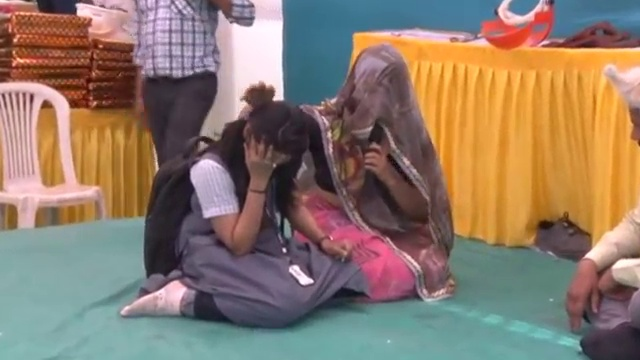helmet: (70, 0, 124, 41)
helmet_off: (235, 85, 312, 189), (347, 44, 409, 115), (601, 65, 640, 156)
person: (142, 80, 332, 313), (296, 46, 453, 288), (562, 65, 639, 359), (123, 0, 256, 165)
